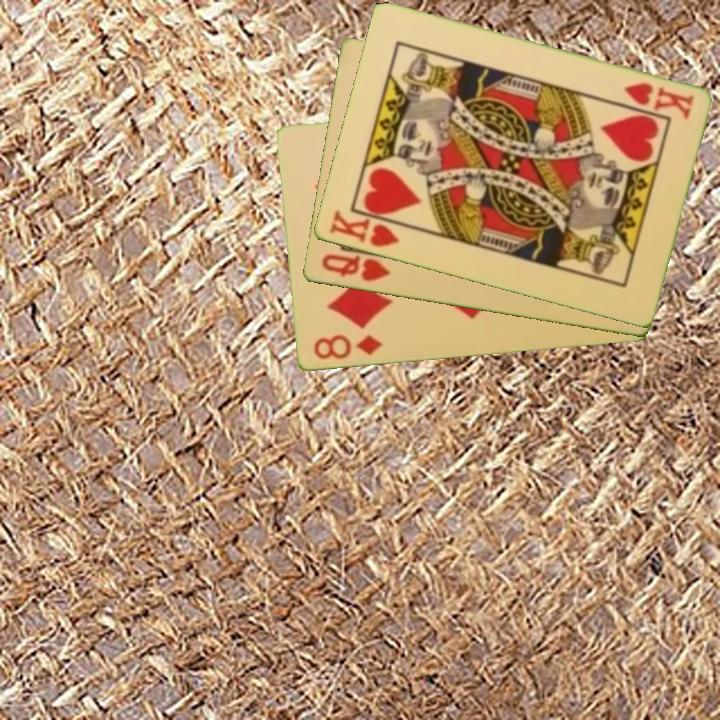8d: (310, 331, 385, 363)
Kh: (325, 206, 411, 251), (619, 79, 696, 123)
Qh: (317, 250, 393, 285)
